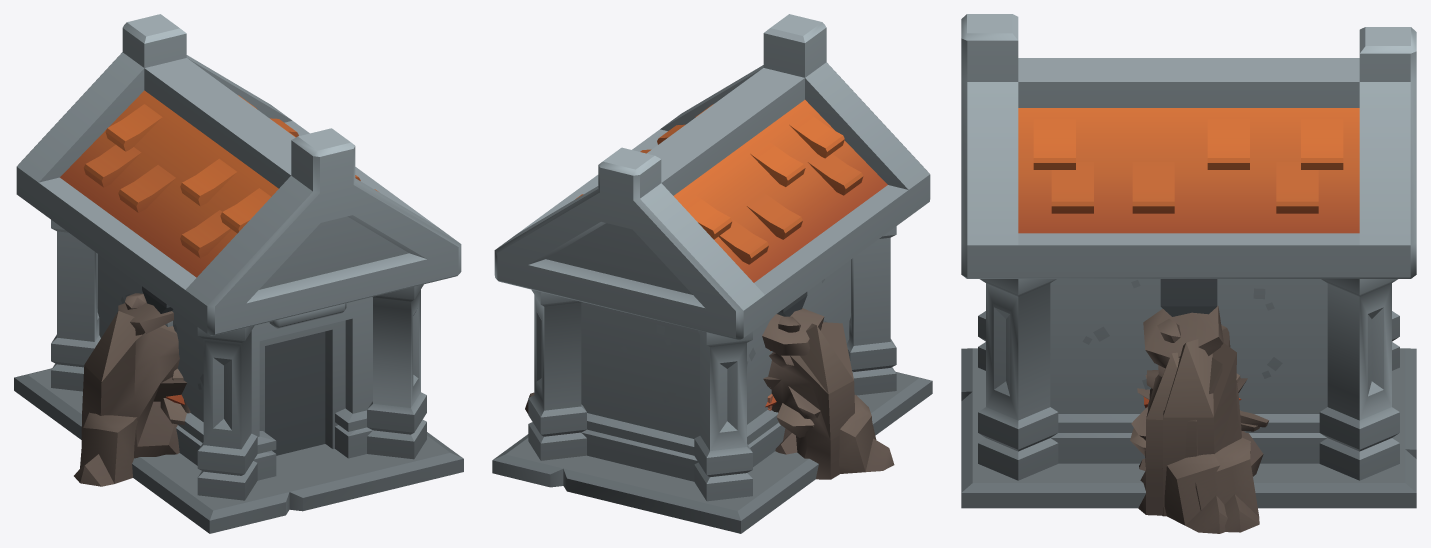
File: props.glb
3 renders of one model, left to right at view 1: azimuth 30°, elevation 25°; view 2: azimuth 150°, elevation 25°; view 3: azimuth 270°, elevation 25°, orthographic. The views are drawn at different scales.
Visible parts, largest first — view 1: crypt, rubble_large; view 2: crypt, rubble_large; view 3: crypt, rubble_half, rubble_large, wall_broken, wall_half.
Part boxes in pixels (left/top/right/bottom): crypt: left=14, top=14, right=463, bottom=533; rubble_large: left=74, top=293, right=190, bottom=486; crypt: left=492, top=14, right=932, bottom=533; rubble_large: left=762, top=308, right=894, bottom=479; crypt: left=961, top=14, right=1416, bottom=508; rubble_half: left=1143, top=305, right=1268, bottom=532; rubble_large: left=1130, top=352, right=1259, bottom=533; wall_broken: left=1168, top=279, right=1217, bottom=316; wall_half: left=1160, top=279, right=1188, bottom=312.
Bounding box in the file's own units: 8.13 × 8.81 × 8.
Materials: 3 (3 with a texture image).
